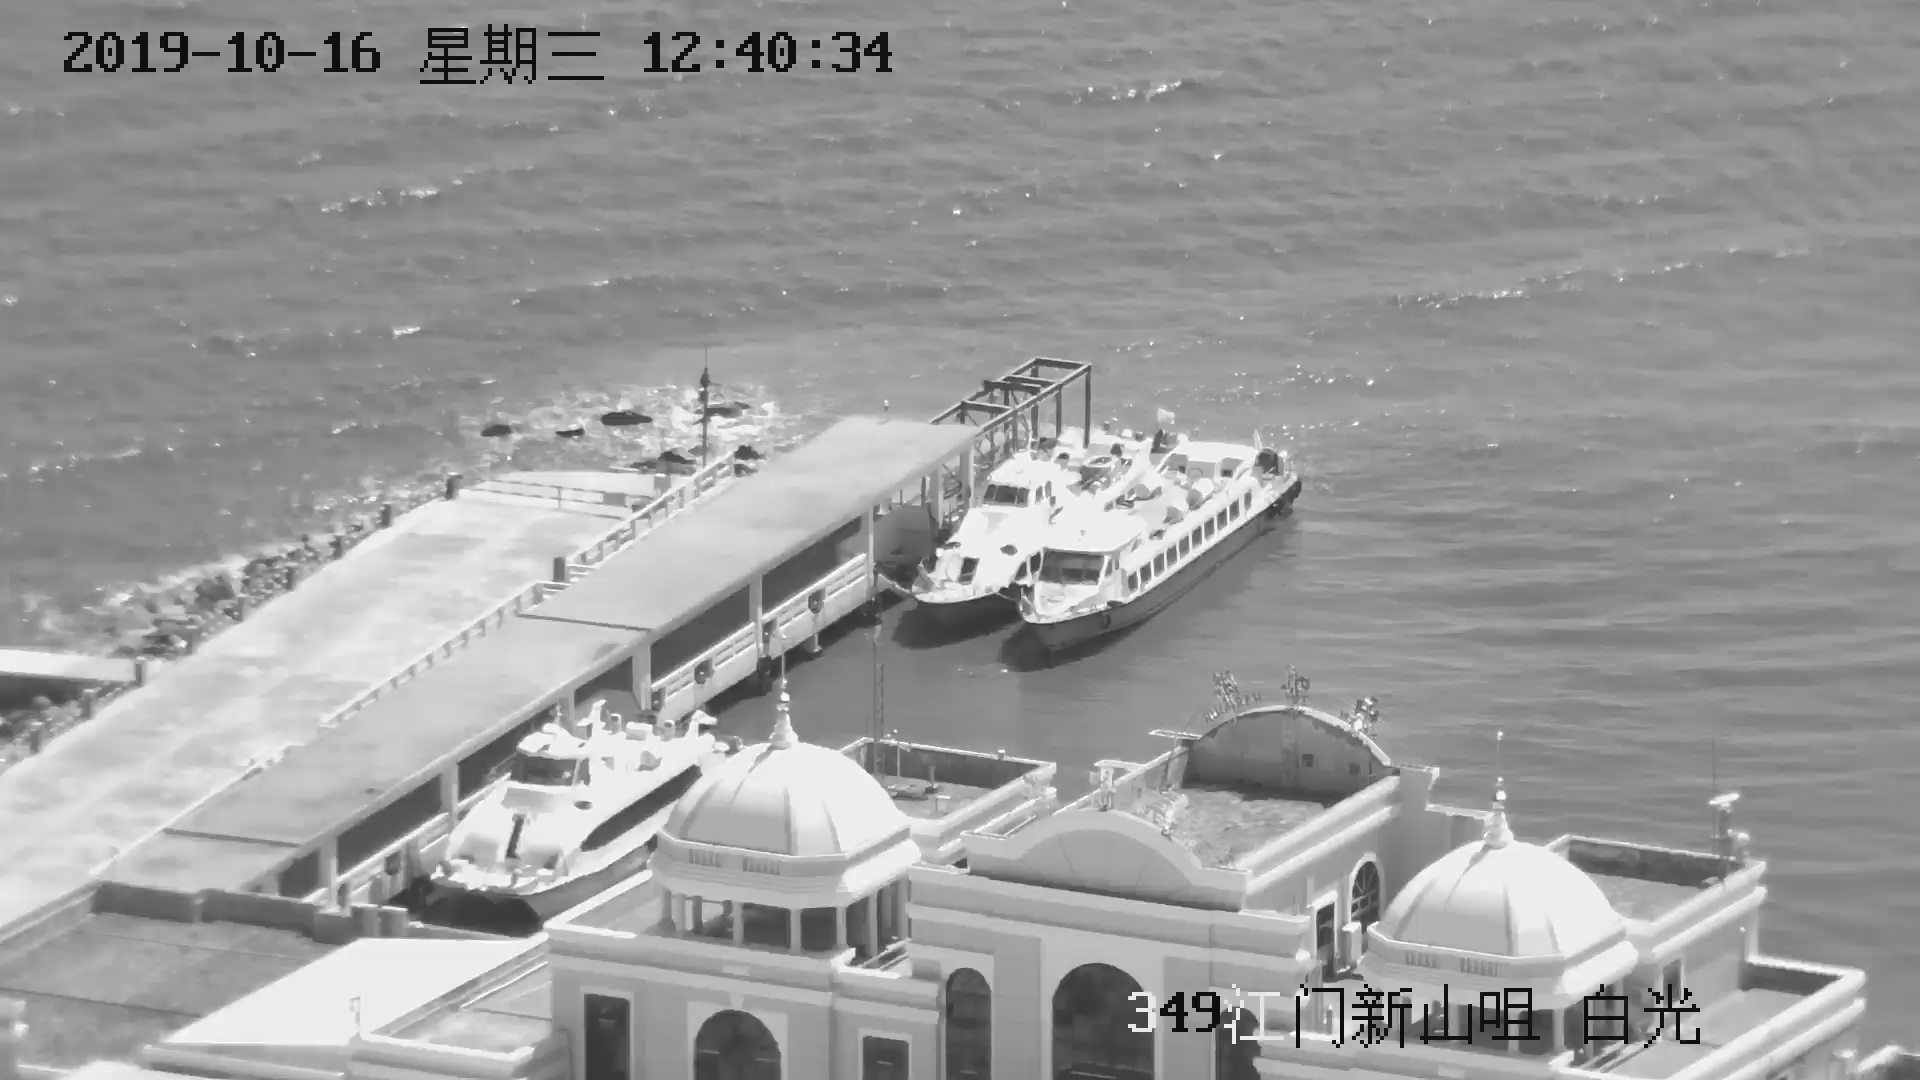ship: (414, 713, 720, 926), (996, 444, 1300, 654), (899, 438, 1079, 609)
